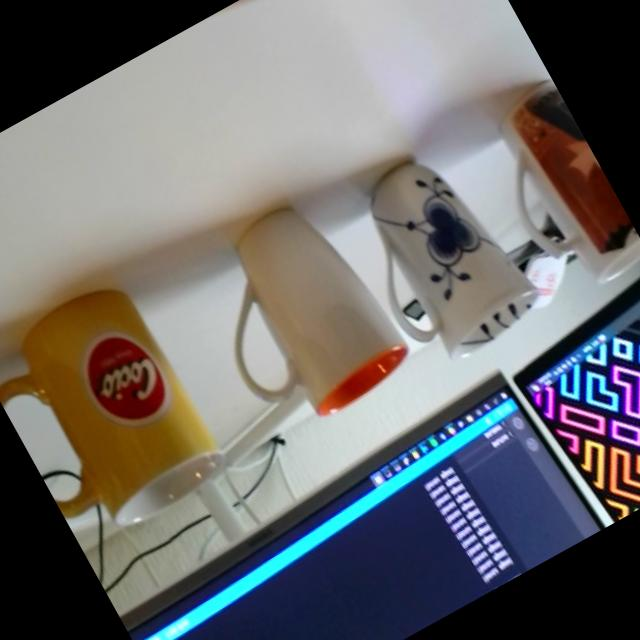Cocio Cup: (0, 267, 238, 556)
Halloween cup: (468, 75, 640, 302)
Hand painted cup: (329, 132, 549, 376)
White Cup: (176, 182, 420, 444)
